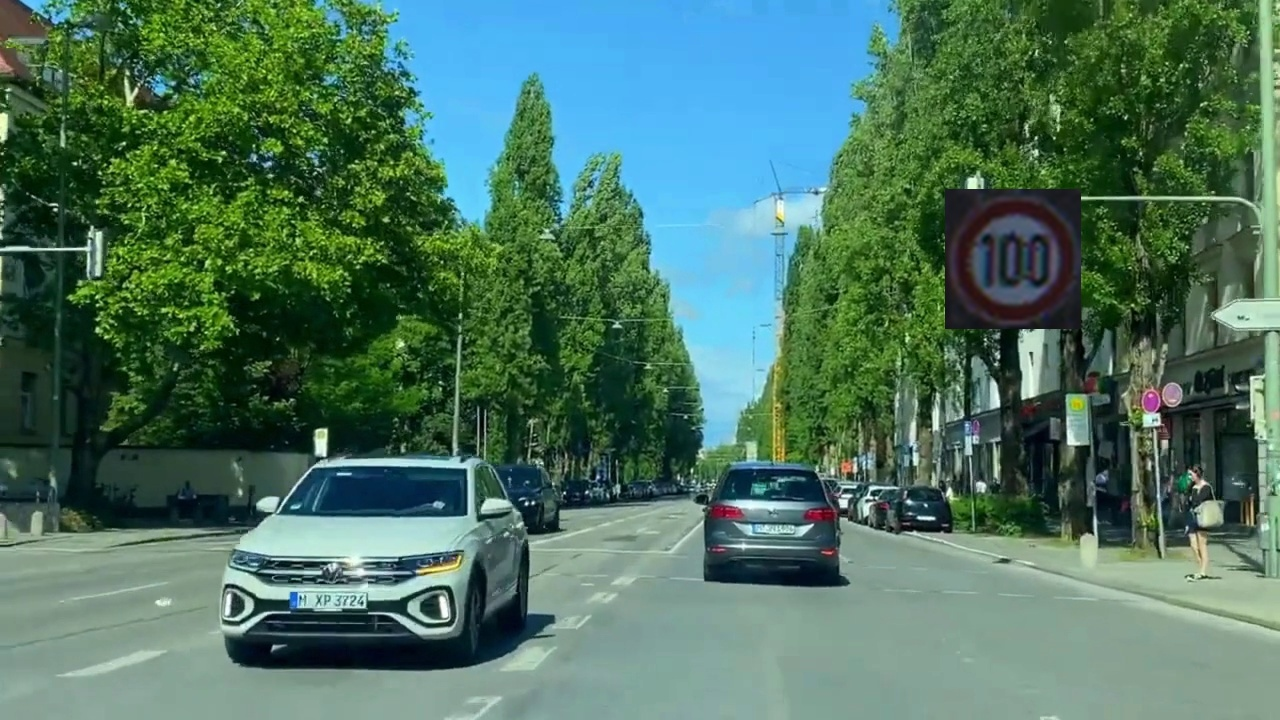Speed 100: (945, 189, 1081, 329)
